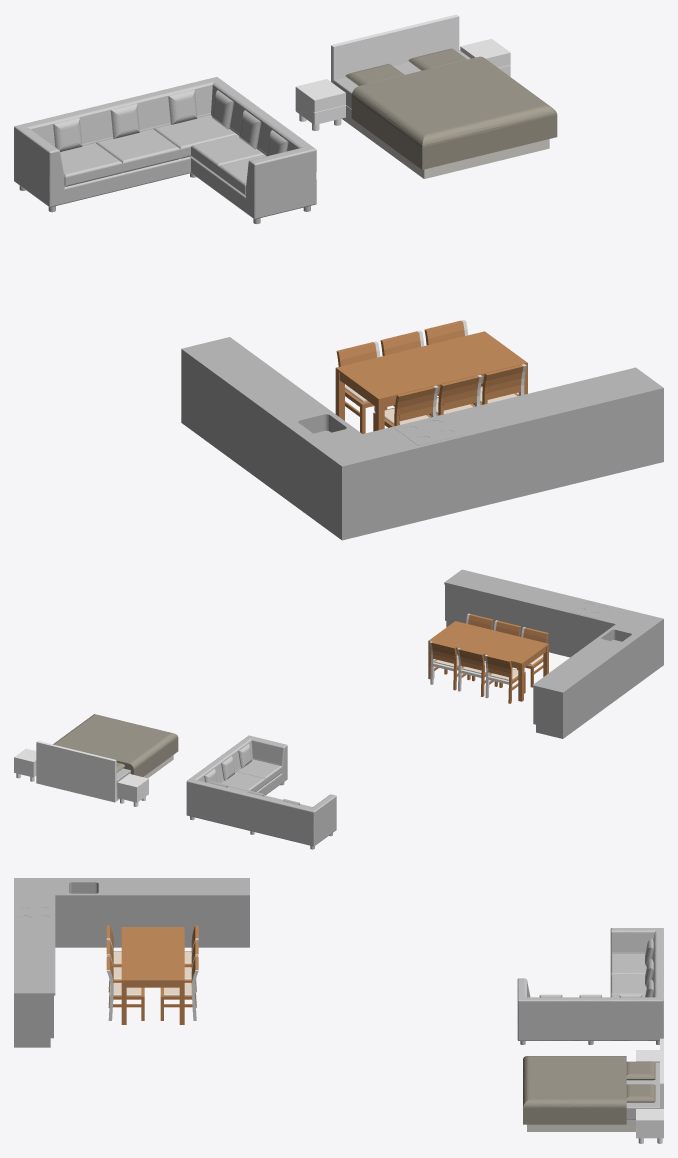
File: meubels.obj
3 renders of one model, top to bottom at view 1: azimuth 30°, elevation 25°; view 2: azimuth 150°, elevation 25°; view 3: azimuth 270°, elevation 25°, orthographic. The views are drawn at different scales.
Parts seen in each view (by area): view 1: NLRS_73_FUS_UN_aanrechtblok_hoek_2kapper, 82_FU_hoekbank, 82_FU_bed_2pers_boxspring, 82_FU_dining_table_and_chairs_5978[1]; view 2: NLRS_73_FUS_UN_aanrechtblok_hoek_2kapper, 82_FU_hoekbank, 82_FU_bed_2pers_boxspring, 82_FU_dining_table_and_chairs_5978[1]; view 3: NLRS_73_FUS_UN_aanrechtblok_hoek_2kapper, 82_FU_bed_2pers_boxspring, 82_FU_hoekbank, 82_FU_dining_table_and_chairs_5978[1].
Boxes of the visible parts, x1=… form: NLRS_73_FUS_UN_aanrechtblok_hoek_2kapper: x1=181, y1=337, x2=663, y2=540; 82_FU_hoekbank: x1=14, y1=77, x2=316, y2=223; 82_FU_bed_2pers_boxspring: x1=295, y1=14, x2=557, y2=178; 82_FU_dining_table_and_chairs_5978[1]: x1=335, y1=320, x2=527, y2=433; NLRS_73_FUS_UN_aanrechtblok_hoek_2kapper: x1=444, y1=569, x2=663, y2=738; 82_FU_hoekbank: x1=186, y1=735, x2=336, y2=849; 82_FU_bed_2pers_boxspring: x1=14, y1=714, x2=178, y2=806; 82_FU_dining_table_and_chairs_5978[1]: x1=428, y1=613, x2=548, y2=703; NLRS_73_FUS_UN_aanrechtblok_hoek_2kapper: x1=14, y1=878, x2=249, y2=1047; 82_FU_bed_2pers_boxspring: x1=523, y1=1038, x2=663, y2=1143; 82_FU_hoekbank: x1=517, y1=928, x2=663, y2=1044; 82_FU_dining_table_and_chairs_5978[1]: x1=106, y1=925, x2=198, y2=1024.
Size of the model in its own units: 7.55 by 0.902 by 9.77.
